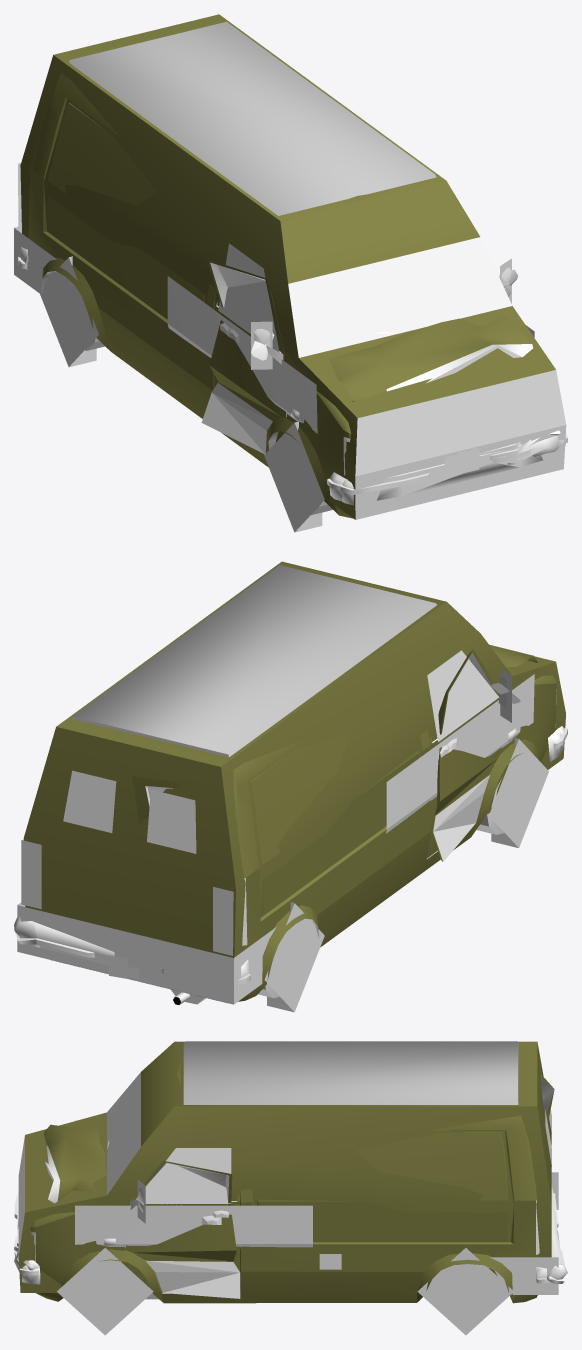
The model's file is Rumpo.fbx.
The picture shows the model from 3 angles, top to bottom: view 1: azimuth 30°, elevation 25°; view 2: azimuth 150°, elevation 25°; view 3: azimuth 270°, elevation 25°; orthographic projection. The views are drawn at different scales.
Parts seen in each view (by area): view 1: chassis_vl, Shadow, chassis, bonnet_dam, door_rf_da, extra1, bump_fro02, bump_fro01, door_rf_ok, plate_fr01; view 2: chassis_vl, Shadow, chassis, extra1, door_rf_da, bump_rea02, door_rf_ok, door_rr_da; view 3: chassis_vl, chassis, Shadow, extra1, door_lf_da, bonnet_dam, door_lf_ok, bump_rea02, bump_fro02, door_rr_da, bump_rea01.
Part boxes in pixels (left/top/right/bottom): chassis_vl: left=14, top=14, right=566, bottom=532; Shadow: left=69, top=21, right=436, bottom=215; chassis: left=28, top=73, right=393, bottom=518; bonnet_dam: left=328, top=316, right=532, bottom=401; door_rf_da: left=201, top=259, right=284, bottom=453; extra1: left=167, top=276, right=534, bottom=433; bump_fro02: left=336, top=432, right=567, bottom=505; bump_fro01: left=327, top=430, right=565, bottom=501; door_rf_ok: left=214, top=299, right=285, bottom=449; plate_fr01: left=444, top=449, right=479, bottom=477; chassis_vl: left=17, top=561, right=565, bottom=1012; Shadow: left=72, top=565, right=436, bottom=757; chassis: left=56, top=577, right=556, bottom=1004; extra1: left=386, top=674, right=534, bottom=833; door_rf_da: left=432, top=649, right=520, bottom=861; bump_rea02: left=14, top=917, right=250, bottom=984; door_rf_ok: left=427, top=676, right=506, bottom=857; door_rr_da: left=132, top=776, right=184, bottom=825; chassis_vl: left=18, top=1041, right=558, bottom=1335; chassis: left=30, top=1061, right=539, bottom=1303; Shadow: left=183, top=1041, right=518, bottom=1104; extra1: left=75, top=1120, right=312, bottom=1299; door_lf_da: left=125, top=1160, right=240, bottom=1298; bonnet_dam: left=44, top=1124, right=106, bottom=1203; door_lf_ok: left=128, top=1188, right=240, bottom=1271; bump_rea02: left=547, top=1185, right=567, bottom=1283; bump_fro02: left=14, top=1191, right=40, bottom=1284; door_rr_da: left=540, top=1073, right=554, bottom=1123; bump_rea01: left=536, top=1185, right=555, bottom=1283.
Size of what is drawn, in the model's own units: 2.53 by 5.62 by 2.46.
